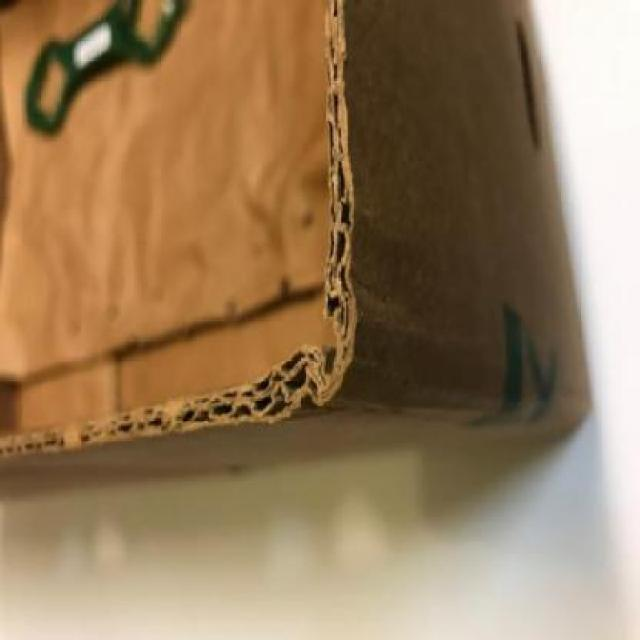CARDBOARD: (0, 0, 592, 498)
